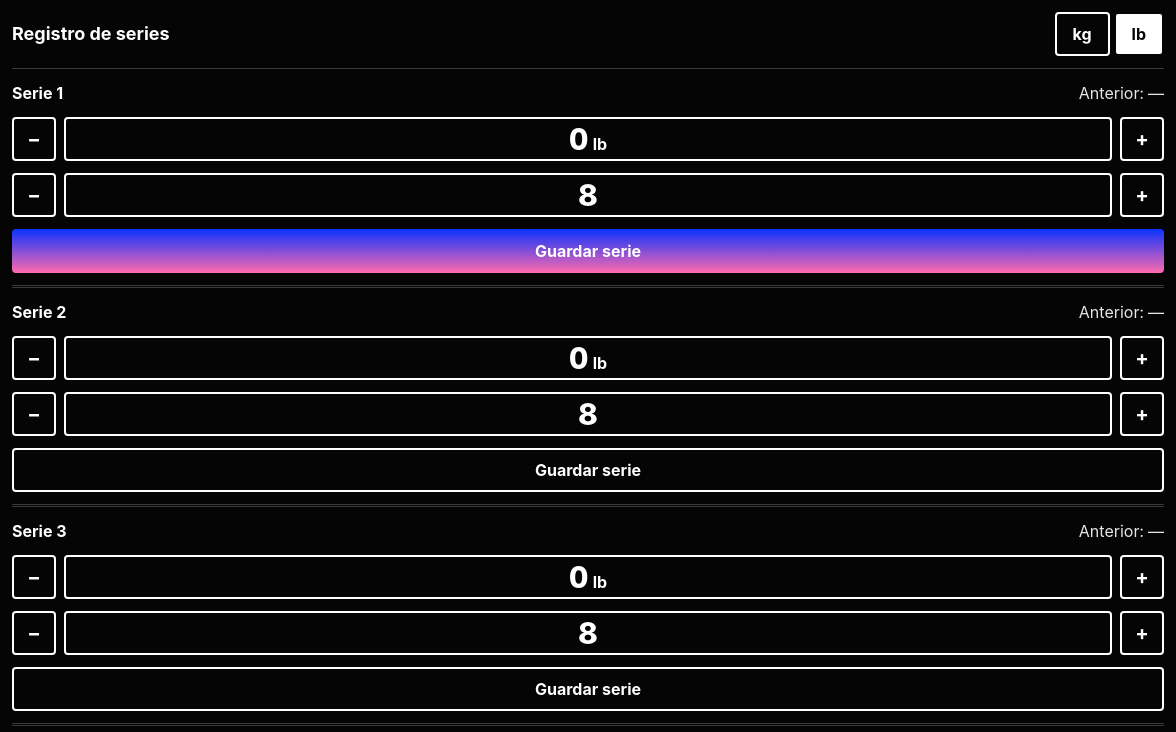
Test case: LoggingSection — reps independientes de la unidad (08 R4) › en lb las repeticiones siguen avanzando de 1 en 1
This screenshot has width=1176, height=732.
expect the heading "Serie 1" is shown: met, box 12,81 -> 63,105
Click the button named "Aumentar Repeticiones serie 1". click: coordinates (1142, 195)
box: 1120,173 -> 1164,217
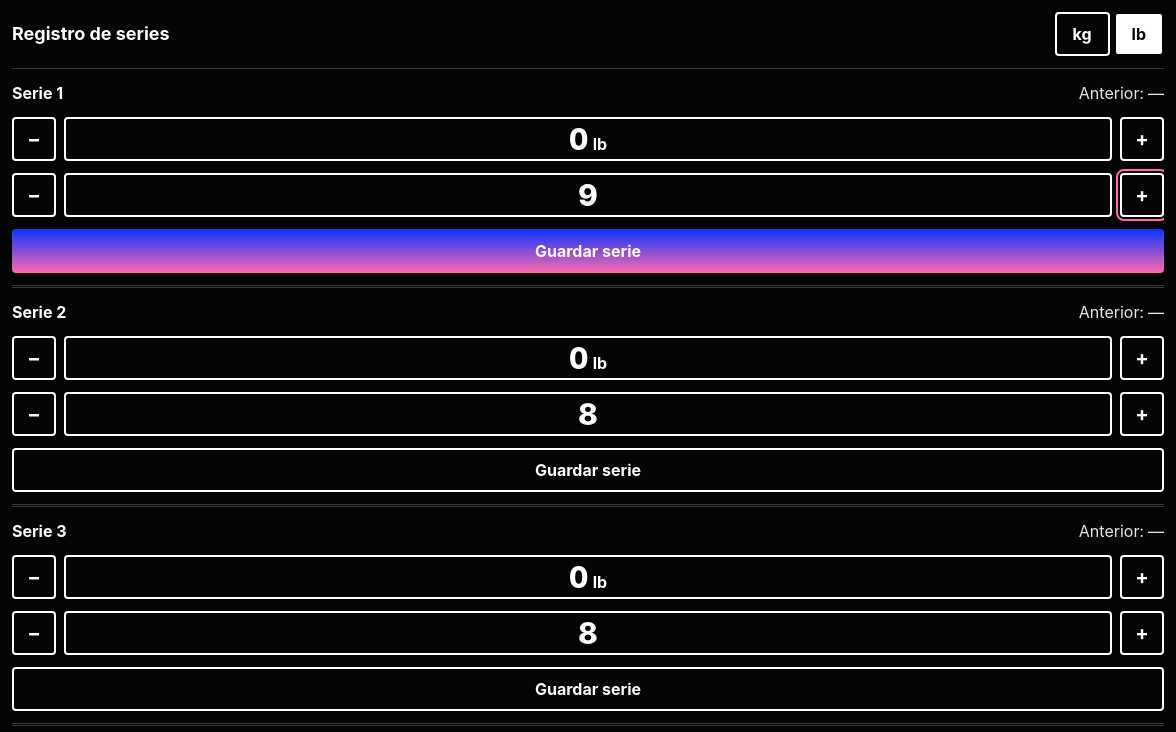
expect the button named "Repeticiones serie 1" reads "9": met, box 64,173 -> 1112,217
